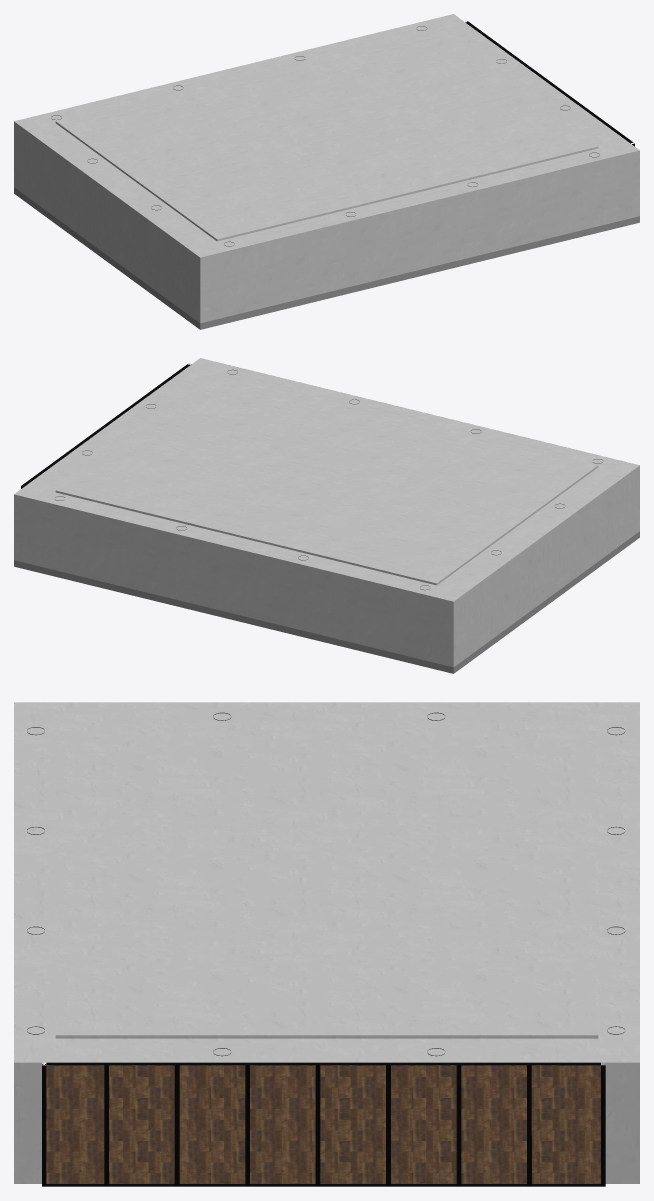
The model's file is artroom.glb.
3 views of the same model, one above another, from view 1: azimuth 30°, elevation 25°; view 2: azimuth 150°, elevation 25°; view 3: azimuth 270°, elevation 25° (orthographic). The views are drawn at different scales.
Parts seen in each view (by area): view 1: Art_Room; view 2: Art_Room; view 3: Art_Room.
Part boxes in pixels (x1,y1,x2,y2): Art_Room: (14, 14, 639, 329); Art_Room: (14, 358, 639, 673); Art_Room: (14, 702, 639, 1186).
Size of the model in its own units: 27.84 by 4.46 by 20.27.
6 materials, 3 textured.
